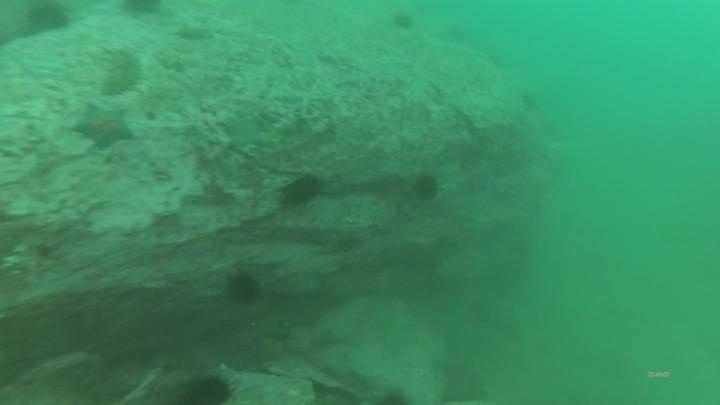echinus: (178, 372, 236, 404), (22, 1, 73, 37), (277, 172, 324, 210), (223, 268, 263, 306), (410, 170, 442, 204), (116, 1, 166, 21), (389, 9, 417, 34), (518, 88, 540, 113)
holothurian: (97, 45, 143, 98)
starfish: (70, 101, 138, 152), (432, 351, 490, 404), (219, 107, 271, 151), (172, 22, 213, 43)
